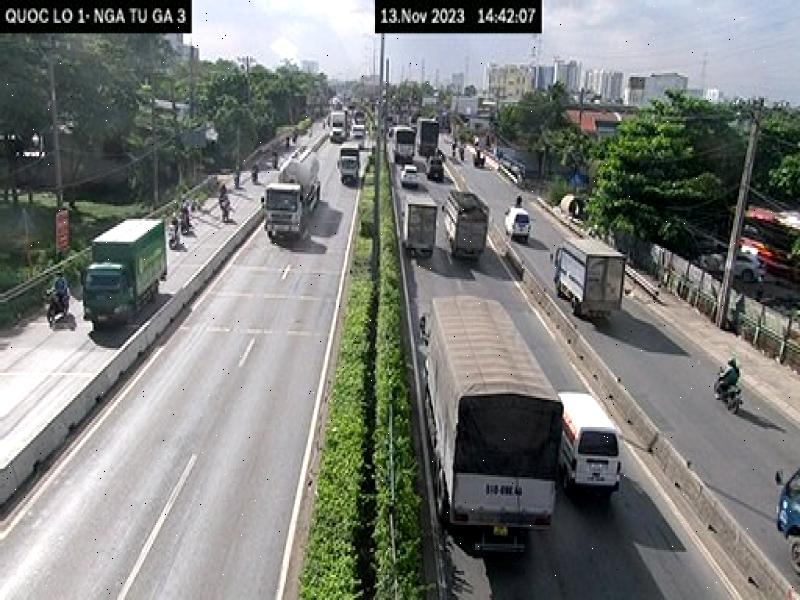truck: (414, 296, 564, 563), (83, 207, 168, 332), (554, 232, 627, 324), (264, 141, 323, 252)
